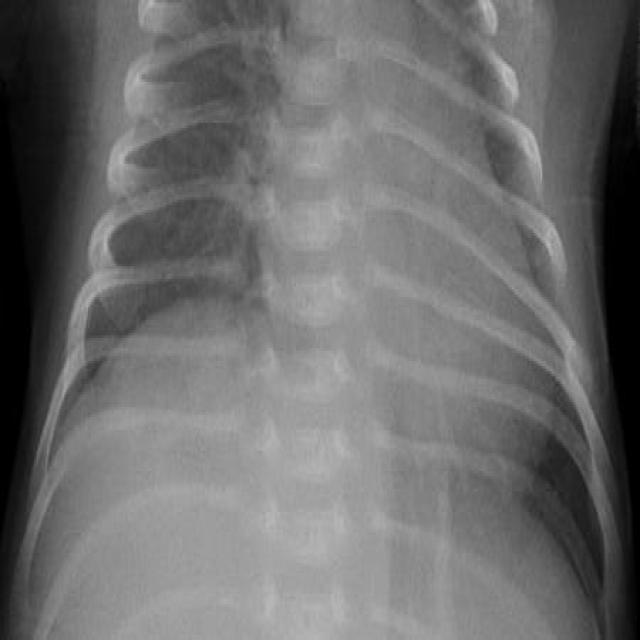low-pneumonia: (204, 1, 291, 312), (421, 1, 534, 193)
